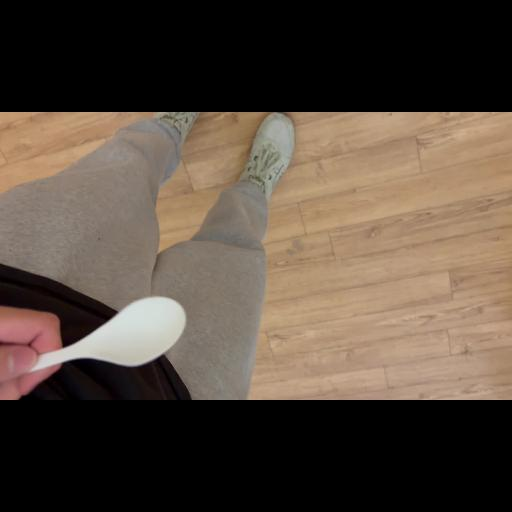utensil: (0, 296, 200, 388)
